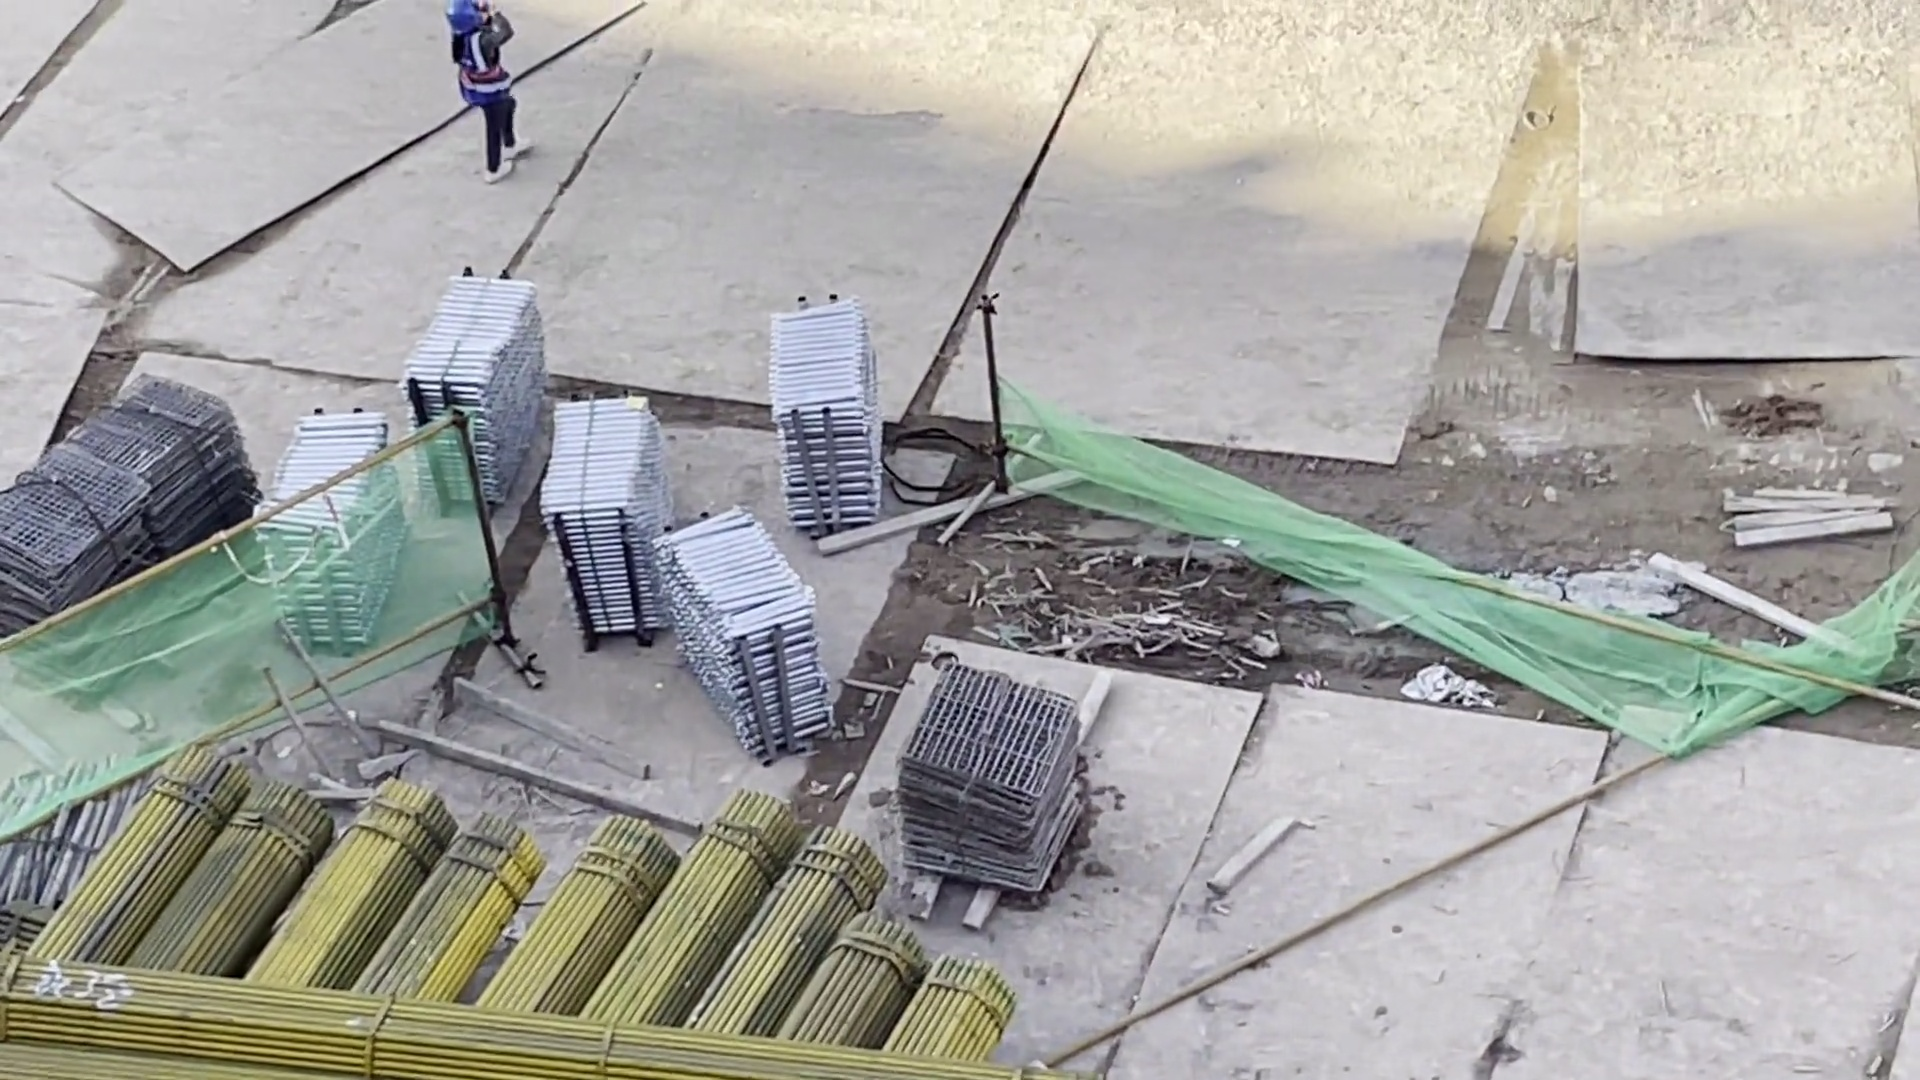helmet: (444, 1, 488, 31)
person: (426, 1, 560, 185)
scaffold: (654, 510, 827, 753), (239, 389, 392, 642), (543, 397, 687, 647), (413, 273, 554, 511), (766, 294, 894, 547)
vest: (438, 38, 525, 97)
